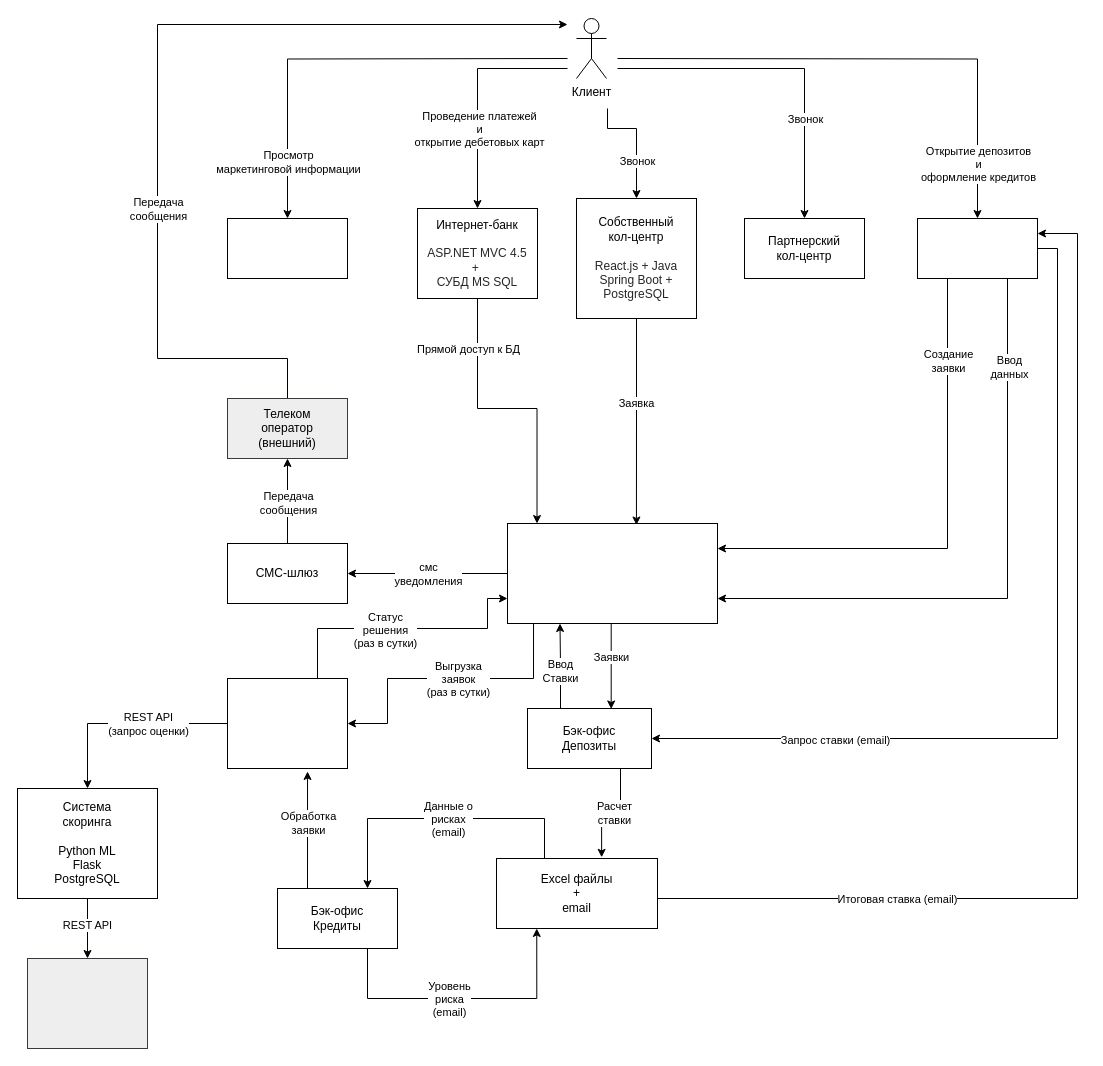
Image size: 1103x1066. Some labels were removed from this diagram. The shapes that lost their labels are listed below. From the top down, each one's centre as x and y in pixels, then its label:
At [287,248]: "Сайт PHP + React.js".
At [977,248]: "Фронт-офис".
At [612,573]: "АБС Delphi/Oracle (Ядро системы)".
At [287,723]: "Кредитный конвеер Camunda + Oracle".
At [87,1003]: "Бюро кредитных историй (внешний)".
